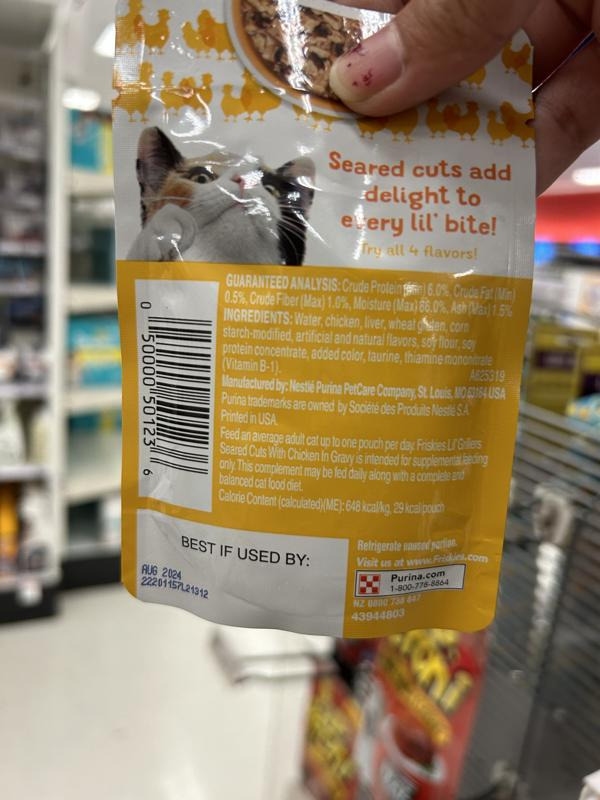ingredients: (220, 307, 495, 376)
